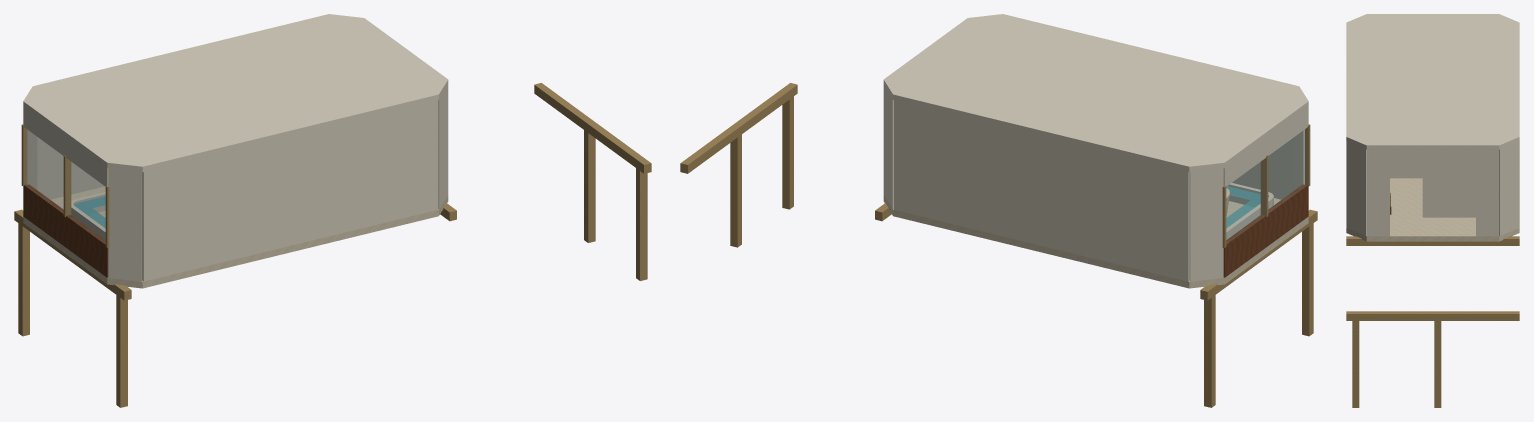
Rendered from D04_STARBOARD_FORWARD_HOME_943_r001.glb.
The picture shows the model from 3 angles, left to right: view 1: azimuth 30°, elevation 25°; view 2: azimuth 150°, elevation 25°; view 3: azimuth 270°, elevation 25°; orthographic projection. The views are drawn at different scales.
Parts seen in each view (by area): view 1: D04SH943_Roof, D04SH943_Shell_3, D04SH943_GardenGlass, D04SH943_Shell_4, D04SH943_Floor, D04SH943_GardenDado, D04SH943_Shell_7, D04SH943_ClearSupportLong, D04SH943_GardenHead, D04SH943_Pier_5, D04SH943_Pier_8, D04SH943_Pier_6 (+5 smaller); view 2: D04SH943_Roof, D04SH943_Shell_7, D04SH943_GardenGlass, D04SH943_Shell_6, D04SH943_Floor, D04SH943_GardenDado, D04SH943_ClearSupportLong, D04SH943_Shell_3, D04SH943_GardenHead, D04SH943_Pier_5, D04SH943_Pier_6, D04SH943_Pier_7 (+6 smaller); view 3: D04SH943_Roof, D04SH943_Floor, D04SH943_EntryHeader, D04SH943_BathDogleg, D04SH943_EntryWall_0, D04SH943_EntryWall_1, D04SH943_Shell_0, D04SH943_Shell_2, D04SH943_ClearSupportLong, D04SH943_Long_-41.650000000000006, D04SH943_Pier_5, D04SH943_Pier_6.
Boxes of the visible parts, x1=… form: D04SH943_Roof: x1=23, y1=14, x2=448, y2=172; D04SH943_Shell_3: x1=142, y1=100, x2=437, y2=281; D04SH943_GardenGlass: x1=25, y1=131, x2=105, y2=243; D04SH943_Shell_4: x1=108, y1=168, x2=142, y2=281; D04SH943_Floor: x1=23, y1=186, x2=448, y2=288; D04SH943_GardenDado: x1=23, y1=184, x2=108, y2=277; D04SH943_Shell_7: x1=37, y1=137, x2=104, y2=199; D04SH943_ClearSupportLong: x1=534, y1=83, x2=651, y2=173; D04SH943_GardenHead: x1=23, y1=107, x2=108, y2=186; D04SH943_Pier_5: x1=584, y1=119, x2=595, y2=242; D04SH943_Pier_8: x1=116, y1=285, x2=127, y2=407; D04SH943_Pier_6: x1=636, y1=157, x2=647, y2=280; D04SH943_Roof: x1=883, y1=14, x2=1308, y2=172; D04SH943_Shell_7: x1=894, y1=100, x2=1189, y2=281; D04SH943_GardenGlass: x1=1226, y1=131, x2=1305, y2=242; D04SH943_Shell_6: x1=1189, y1=168, x2=1223, y2=281; D04SH943_Floor: x1=883, y1=195, x2=1308, y2=288; D04SH943_GardenDado: x1=1223, y1=184, x2=1308, y2=277; D04SH943_ClearSupportLong: x1=680, y1=83, x2=797, y2=173; D04SH943_Shell_3: x1=1232, y1=137, x2=1294, y2=199; D04SH943_GardenHead: x1=1223, y1=107, x2=1308, y2=186; D04SH943_Pier_5: x1=730, y1=123, x2=741, y2=247; D04SH943_Pier_6: x1=782, y1=86, x2=793, y2=209; D04SH943_Pier_7: x1=1204, y1=285, x2=1215, y2=407; D04SH943_Roof: x1=1346, y1=14, x2=1519, y2=149; D04SH943_Floor: x1=1346, y1=178, x2=1519, y2=241; D04SH943_EntryHeader: x1=1390, y1=150, x2=1475, y2=178; D04SH943_BathDogleg: x1=1422, y1=178, x2=1475, y2=217; D04SH943_EntryWall_0: x1=1476, y1=150, x2=1499, y2=236; D04SH943_EntryWall_1: x1=1366, y1=150, x2=1389, y2=236; D04SH943_Shell_0: x1=1499, y1=141, x2=1519, y2=235; D04SH943_Shell_2: x1=1346, y1=141, x2=1366, y2=235; D04SH943_ClearSupportLong: x1=1346, y1=311, x2=1519, y2=320; D04SH943_Long_-41.650000000000006: x1=1346, y1=236, x2=1519, y2=245; D04SH943_Pier_5: x1=1434, y1=311, x2=1441, y2=407; D04SH943_Pier_6: x1=1352, y1=311, x2=1359, y2=407.
Bounding box in the file's own units: 20.11 × 8.66 × 7.2.
40 materials, 21 textured.
